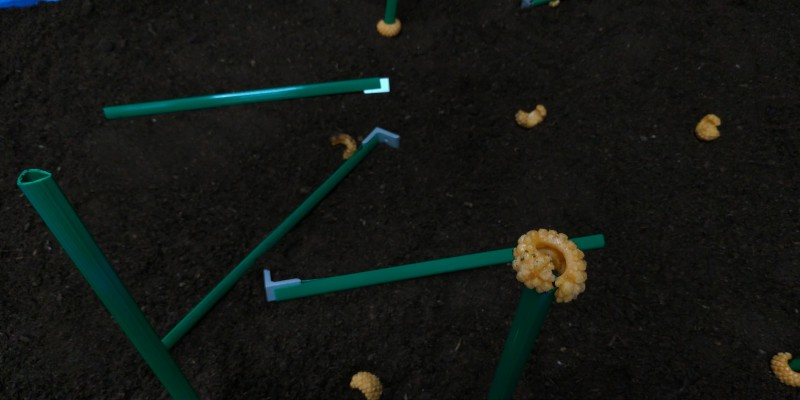eggs: (498, 215, 602, 309), (764, 339, 800, 394), (323, 128, 362, 161), (343, 371, 386, 400), (509, 101, 554, 128), (689, 111, 724, 145), (372, 14, 406, 38)
